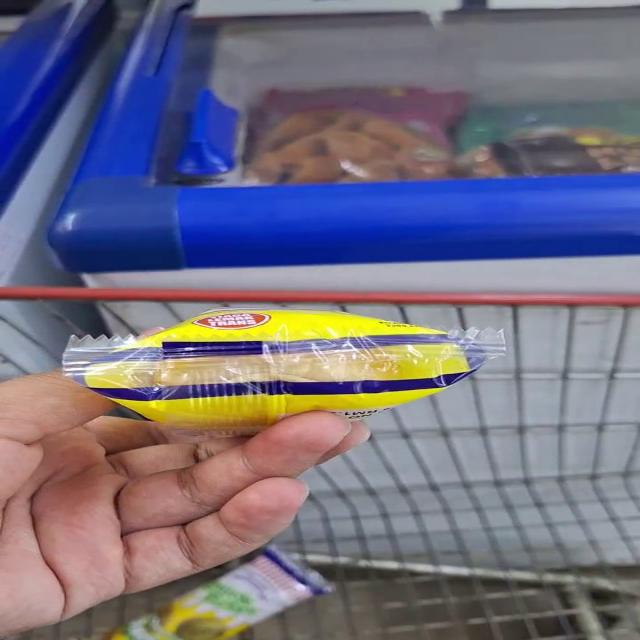Roti: (88, 305, 528, 438), (120, 566, 367, 640)
